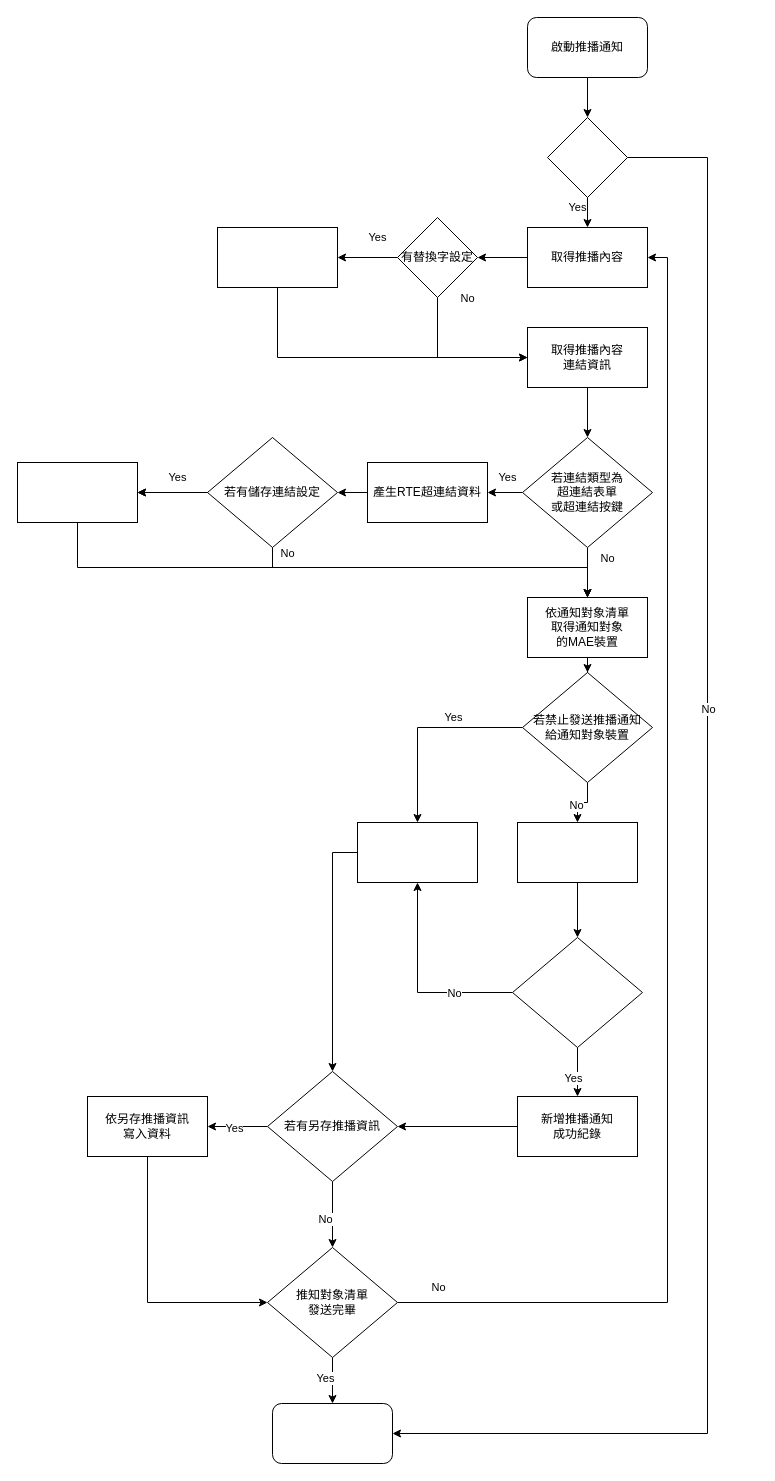
Some shapes in this 775 by 1481 pixel diagram are drawn without their labels. Here are the shapes that lost their labels. From the top down, the box of each, then its label:
(546, 116, 628, 198): 執行條件 成立
(216, 226, 338, 288): 進行推播內容的替換
(16, 462, 138, 522): 依儲存連結設定 寫入資料
(356, 822, 478, 882): 新增推播通知 失敗紀錄
(516, 822, 638, 882): 發送推播通知
(512, 936, 642, 1048): 發送成功否
(272, 1402, 392, 1464): 結束推播通知
